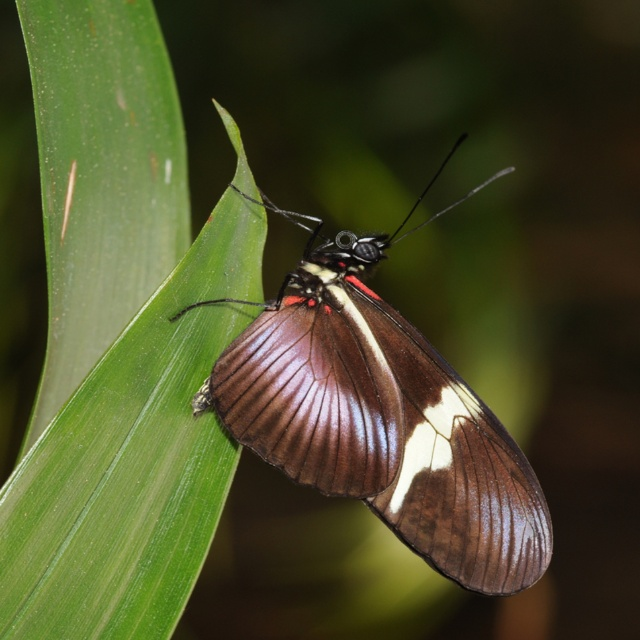Butterfly: (170, 128, 557, 594)
